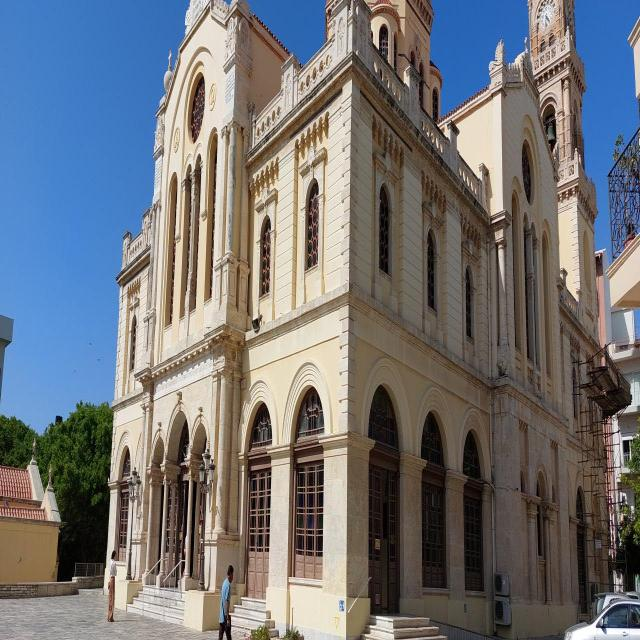Agios Minas: (104, 1, 628, 640)
